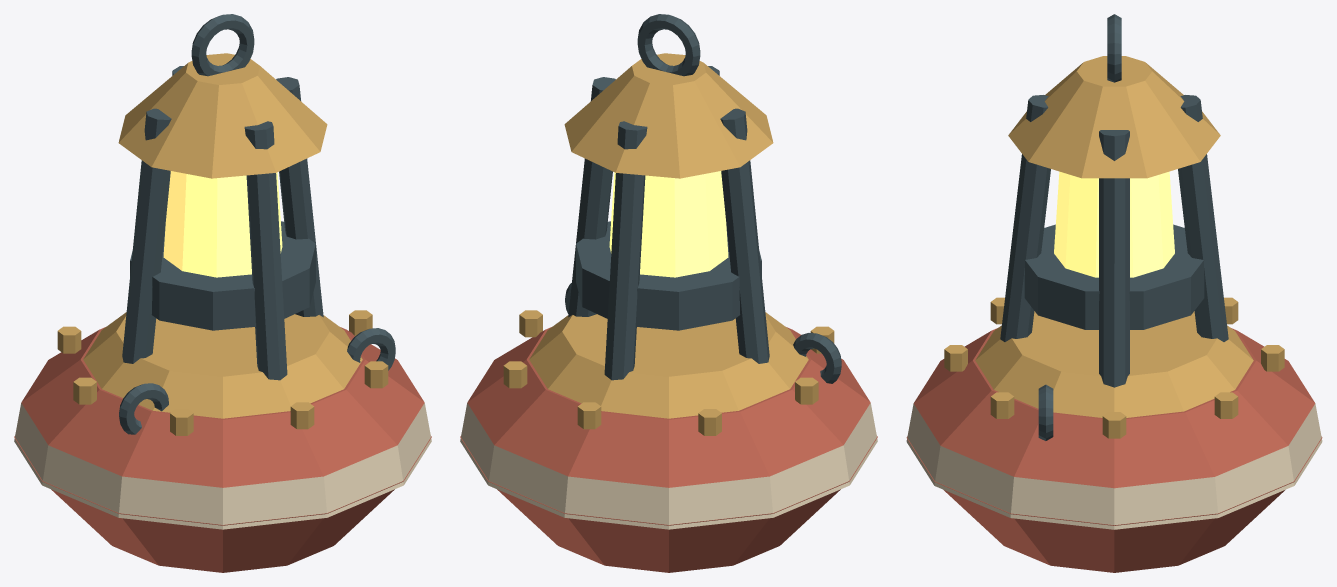
The model's file is bouee_quai.glb.
3 renders of one model, left to right at view 1: azimuth 30°, elevation 25°; view 2: azimuth 150°, elevation 25°; view 3: azimuth 270°, elevation 25°, orthographic.
Visible parts, largest first — view 1: Flotteur riveté.002, Flotteur riveté.003, Flotteur riveté.001, Chapeau conique, Flotteur riveté, Cristal de la bouée, Socle optique, Montant de protection.003, Montant de protection.002, Montant de protection, Œil de levage, Brague d’amarrage (+6 smaller); view 2: Flotteur riveté.002, Flotteur riveté.003, Flotteur riveté.001, Chapeau conique, Flotteur riveté, Cristal de la bouée, Socle optique, Montant de protection.001, Montant de protection.002, Montant de protection, Œil de levage, Brague d’amarrage (+5 smaller); view 3: Flotteur riveté.002, Flotteur riveté.003, Flotteur riveté.001, Chapeau conique, Flotteur riveté, Socle optique, Cristal de la bouée, Montant de protection, Montant de protection.001, Montant de protection.003, Œil de levage, Brague d’amarrage.001 (+5 smaller).
Boxes of the visible parts, <box> form: Flotteur riveté.002: <box>21,327,424,487</box>; Flotteur riveté.003: <box>83,312,362,418</box>; Flotteur riveté.001: <box>14,403,431,529</box>; Chapeau conique: <box>118,53,327,178</box>; Flotteur riveté: <box>14,436,431,572</box>; Cristal de la bouée: <box>163,171,282,277</box>; Socle optique: <box>130,221,315,330</box>; Montant de protection.003: <box>244,121,287,380</box>; Montant de protection.002: <box>122,108,171,363</box>; Montant de protection: <box>276,77,323,317</box>; Œil de levage: <box>191,14,254,76</box>; Brague d’amarrage: <box>119,383,168,434</box>; Flotteur riveté.002: <box>467,327,870,487</box>; Flotteur riveté.003: <box>529,312,808,418</box>; Flotteur riveté.001: <box>460,403,877,529</box>; Chapeau conique: <box>564,53,773,178</box>; Flotteur riveté: <box>460,436,877,572</box>; Cristal de la bouée: <box>609,171,728,277</box>; Socle optique: <box>576,221,761,330</box>; Montant de protection.001: <box>604,121,647,380</box>; Montant de protection.002: <box>720,108,769,363</box>; Montant de protection: <box>568,77,615,317</box>; Œil de levage: <box>637,14,700,76</box>; Brague d’amarrage: <box>793,333,841,383</box>; Flotteur riveté.002: <box>913,328,1315,488</box>; Flotteur riveté.003: <box>975,311,1253,417</box>; Flotteur riveté.001: <box>906,403,1322,529</box>; Chapeau conique: <box>1008,56,1220,178</box>; Flotteur riveté: <box>906,436,1322,572</box>; Socle optique: <box>1024,224,1204,329</box>; Cristal de la bouée: <box>1054,171,1174,277</box>; Montant de protection: <box>1099,130,1129,387</box>; Montant de protection.001: <box>1178,95,1228,341</box>; Montant de protection.003: <box>1000,95,1050,341</box>; Œil de levage: <box>1107,14,1121,82</box>; Brague d’amarrage.001: <box>1038,384,1053,440</box>.
Bounding box in the file's own units: 1.76 × 2.34 × 1.76.
